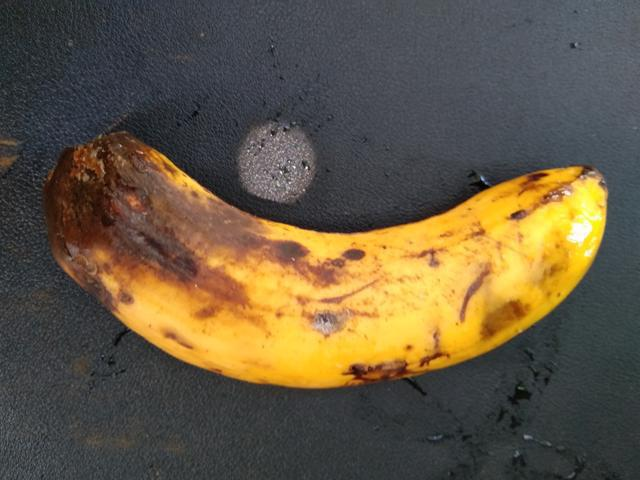rotten: (46, 110, 624, 435)
